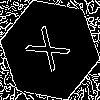X: (25, 25, 79, 79)
